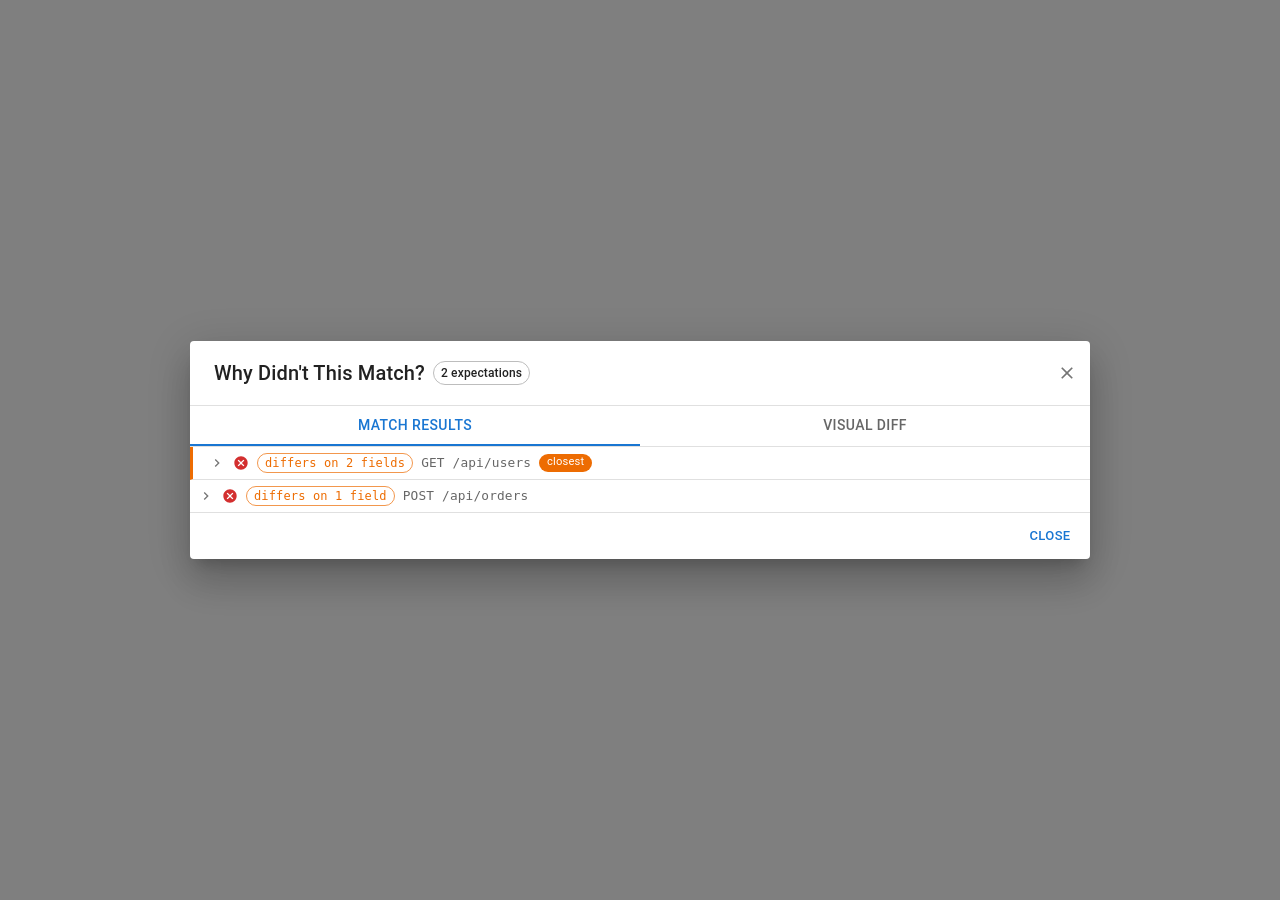
DebugMismatchDialog › renders a client-derived remediation hint on each failing field
Click the text "GET /api/users" at (476, 463), box [421,453,531,472]
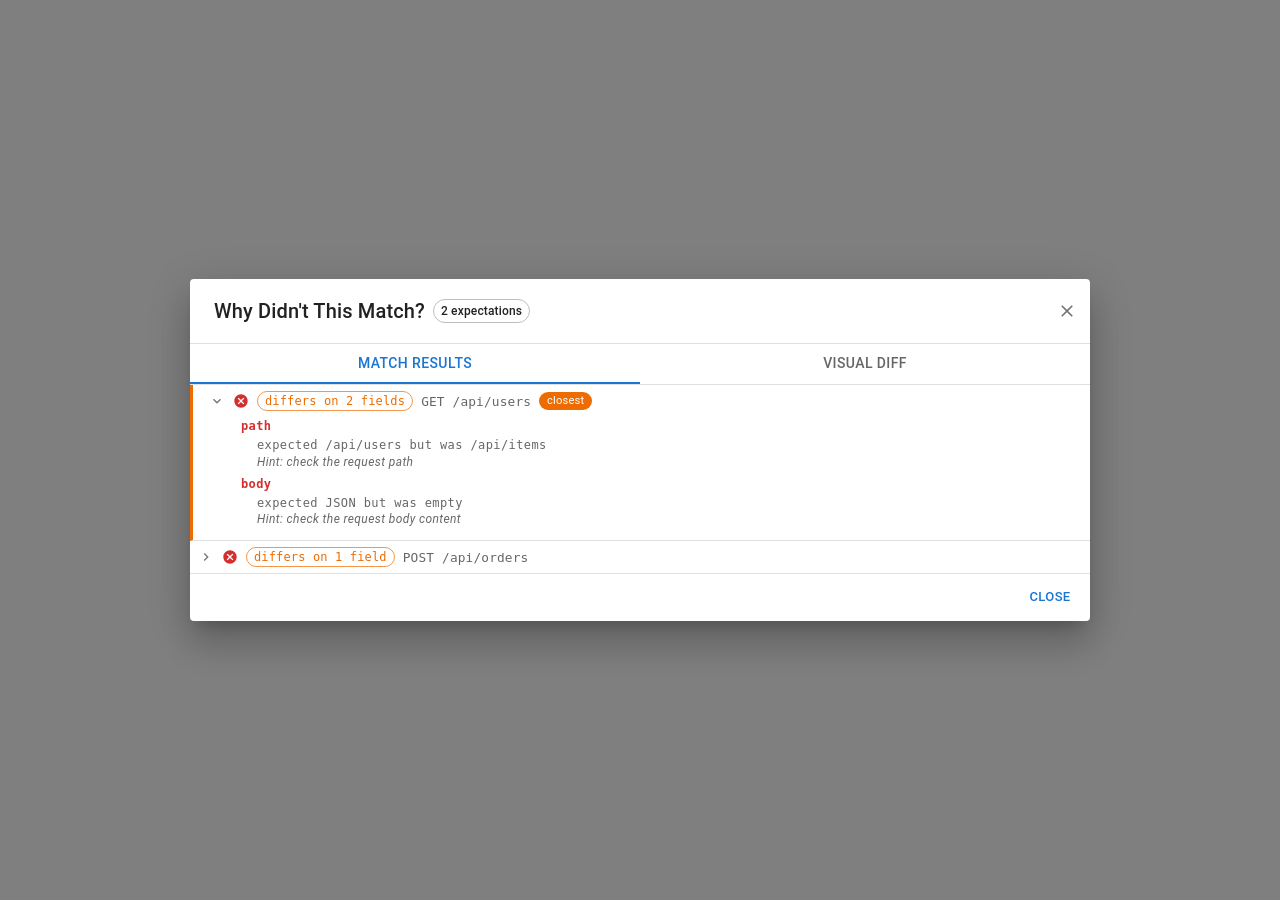
Expected: the text "Hint: check the request path" is shown, [257,455,413,469]
Expected: the text "Hint: check the request body content" is shown, [257,512,461,526]
